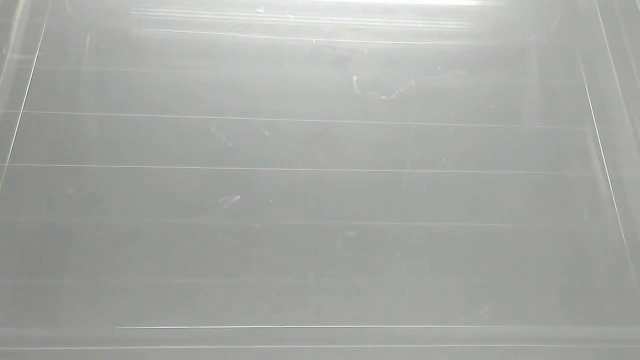alpha: (10, 48, 44, 63)
